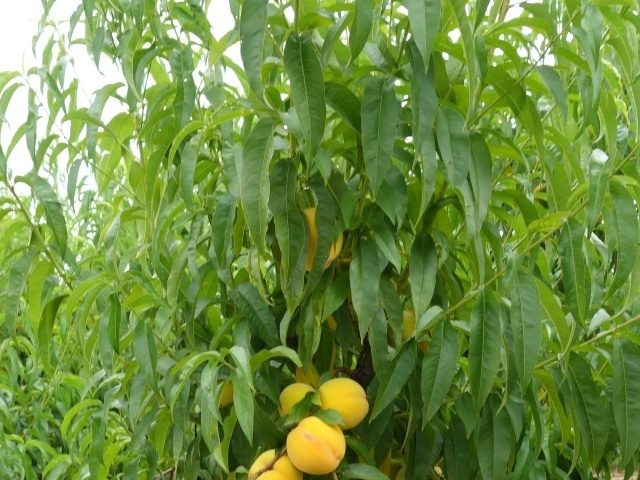peach: (282, 411, 350, 478), (290, 203, 349, 277), (315, 373, 378, 435), (273, 379, 323, 428), (245, 442, 308, 480), (288, 359, 325, 393)
